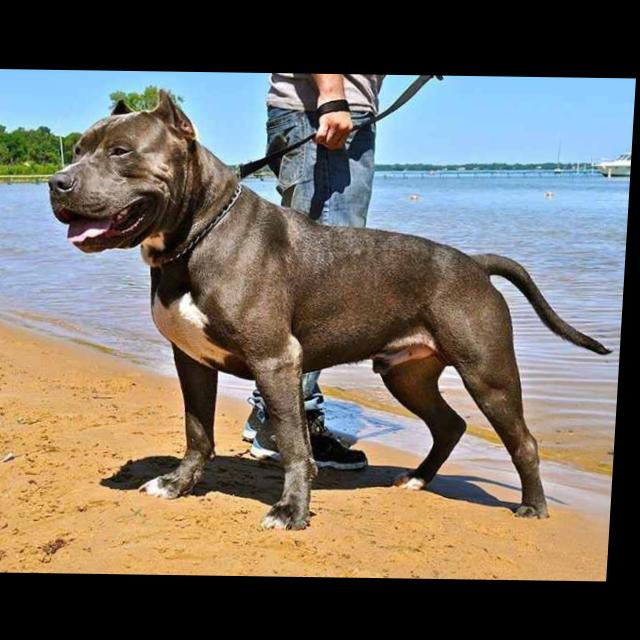am_pit_bull_terrier: (36, 86, 632, 536)
person: (247, 73, 454, 474)
